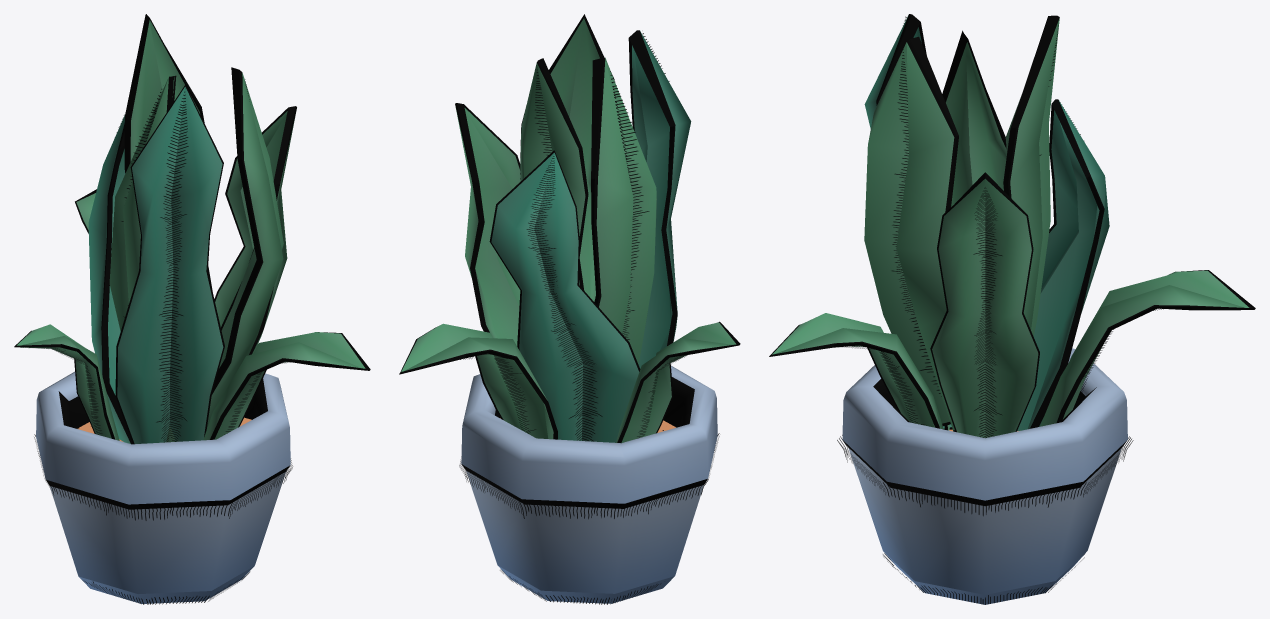
File: FlowerPot_Small_02.glb
3 renders of one model, left to right at view 1: azimuth 30°, elevation 25°; view 2: azimuth 150°, elevation 25°; view 3: azimuth 270°, elevation 25°, orthographic. The views are drawn at different scales.
Parts seen in each view (by area): view 1: FlowerPot_Small_02; view 2: FlowerPot_Small_02; view 3: FlowerPot_Small_02.
Part boxes in pixels (left/top/right/bottom): FlowerPot_Small_02: left=14, top=14, right=370, bottom=604; FlowerPot_Small_02: left=399, top=14, right=740, bottom=604; FlowerPot_Small_02: left=769, top=14, right=1255, bottom=604.
Size of the model in its own units: 0.8509 by 1.51 by 1.19.
3 materials, 3 textured.
